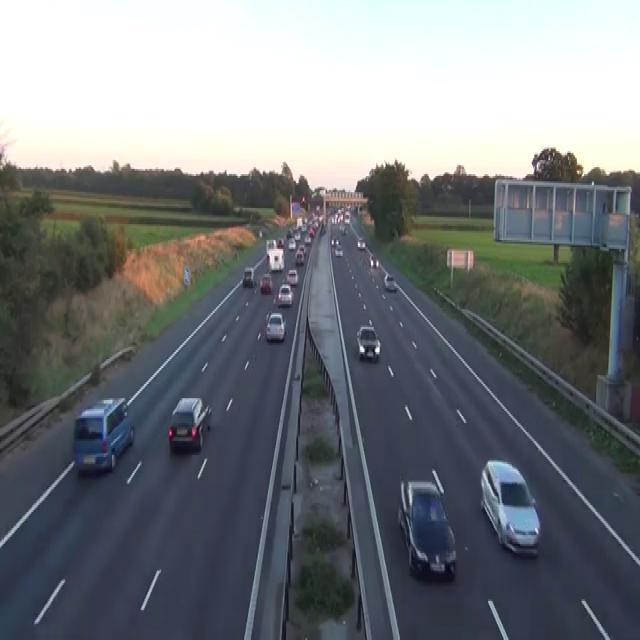Car: (397, 478, 456, 578), (480, 458, 540, 556), (72, 396, 134, 474), (168, 396, 211, 452), (356, 323, 380, 361), (265, 311, 286, 341), (273, 282, 293, 306), (259, 272, 272, 293), (383, 272, 396, 290), (242, 267, 254, 286), (286, 268, 298, 284), (295, 249, 304, 265), (369, 254, 379, 268), (356, 236, 365, 249), (334, 244, 343, 256), (331, 235, 339, 247), (288, 238, 295, 249), (339, 224, 346, 235), (277, 237, 284, 247), (298, 244, 305, 254), (321, 222, 326, 235), (369, 254, 374, 267), (304, 234, 311, 243), (286, 228, 292, 238), (309, 226, 315, 236), (294, 231, 300, 240), (301, 222, 307, 231), (335, 237, 340, 246), (331, 237, 335, 246), (375, 258, 379, 266), (301, 196, 305, 204), (258, 230, 262, 237)
Truck: (268, 247, 284, 272)
